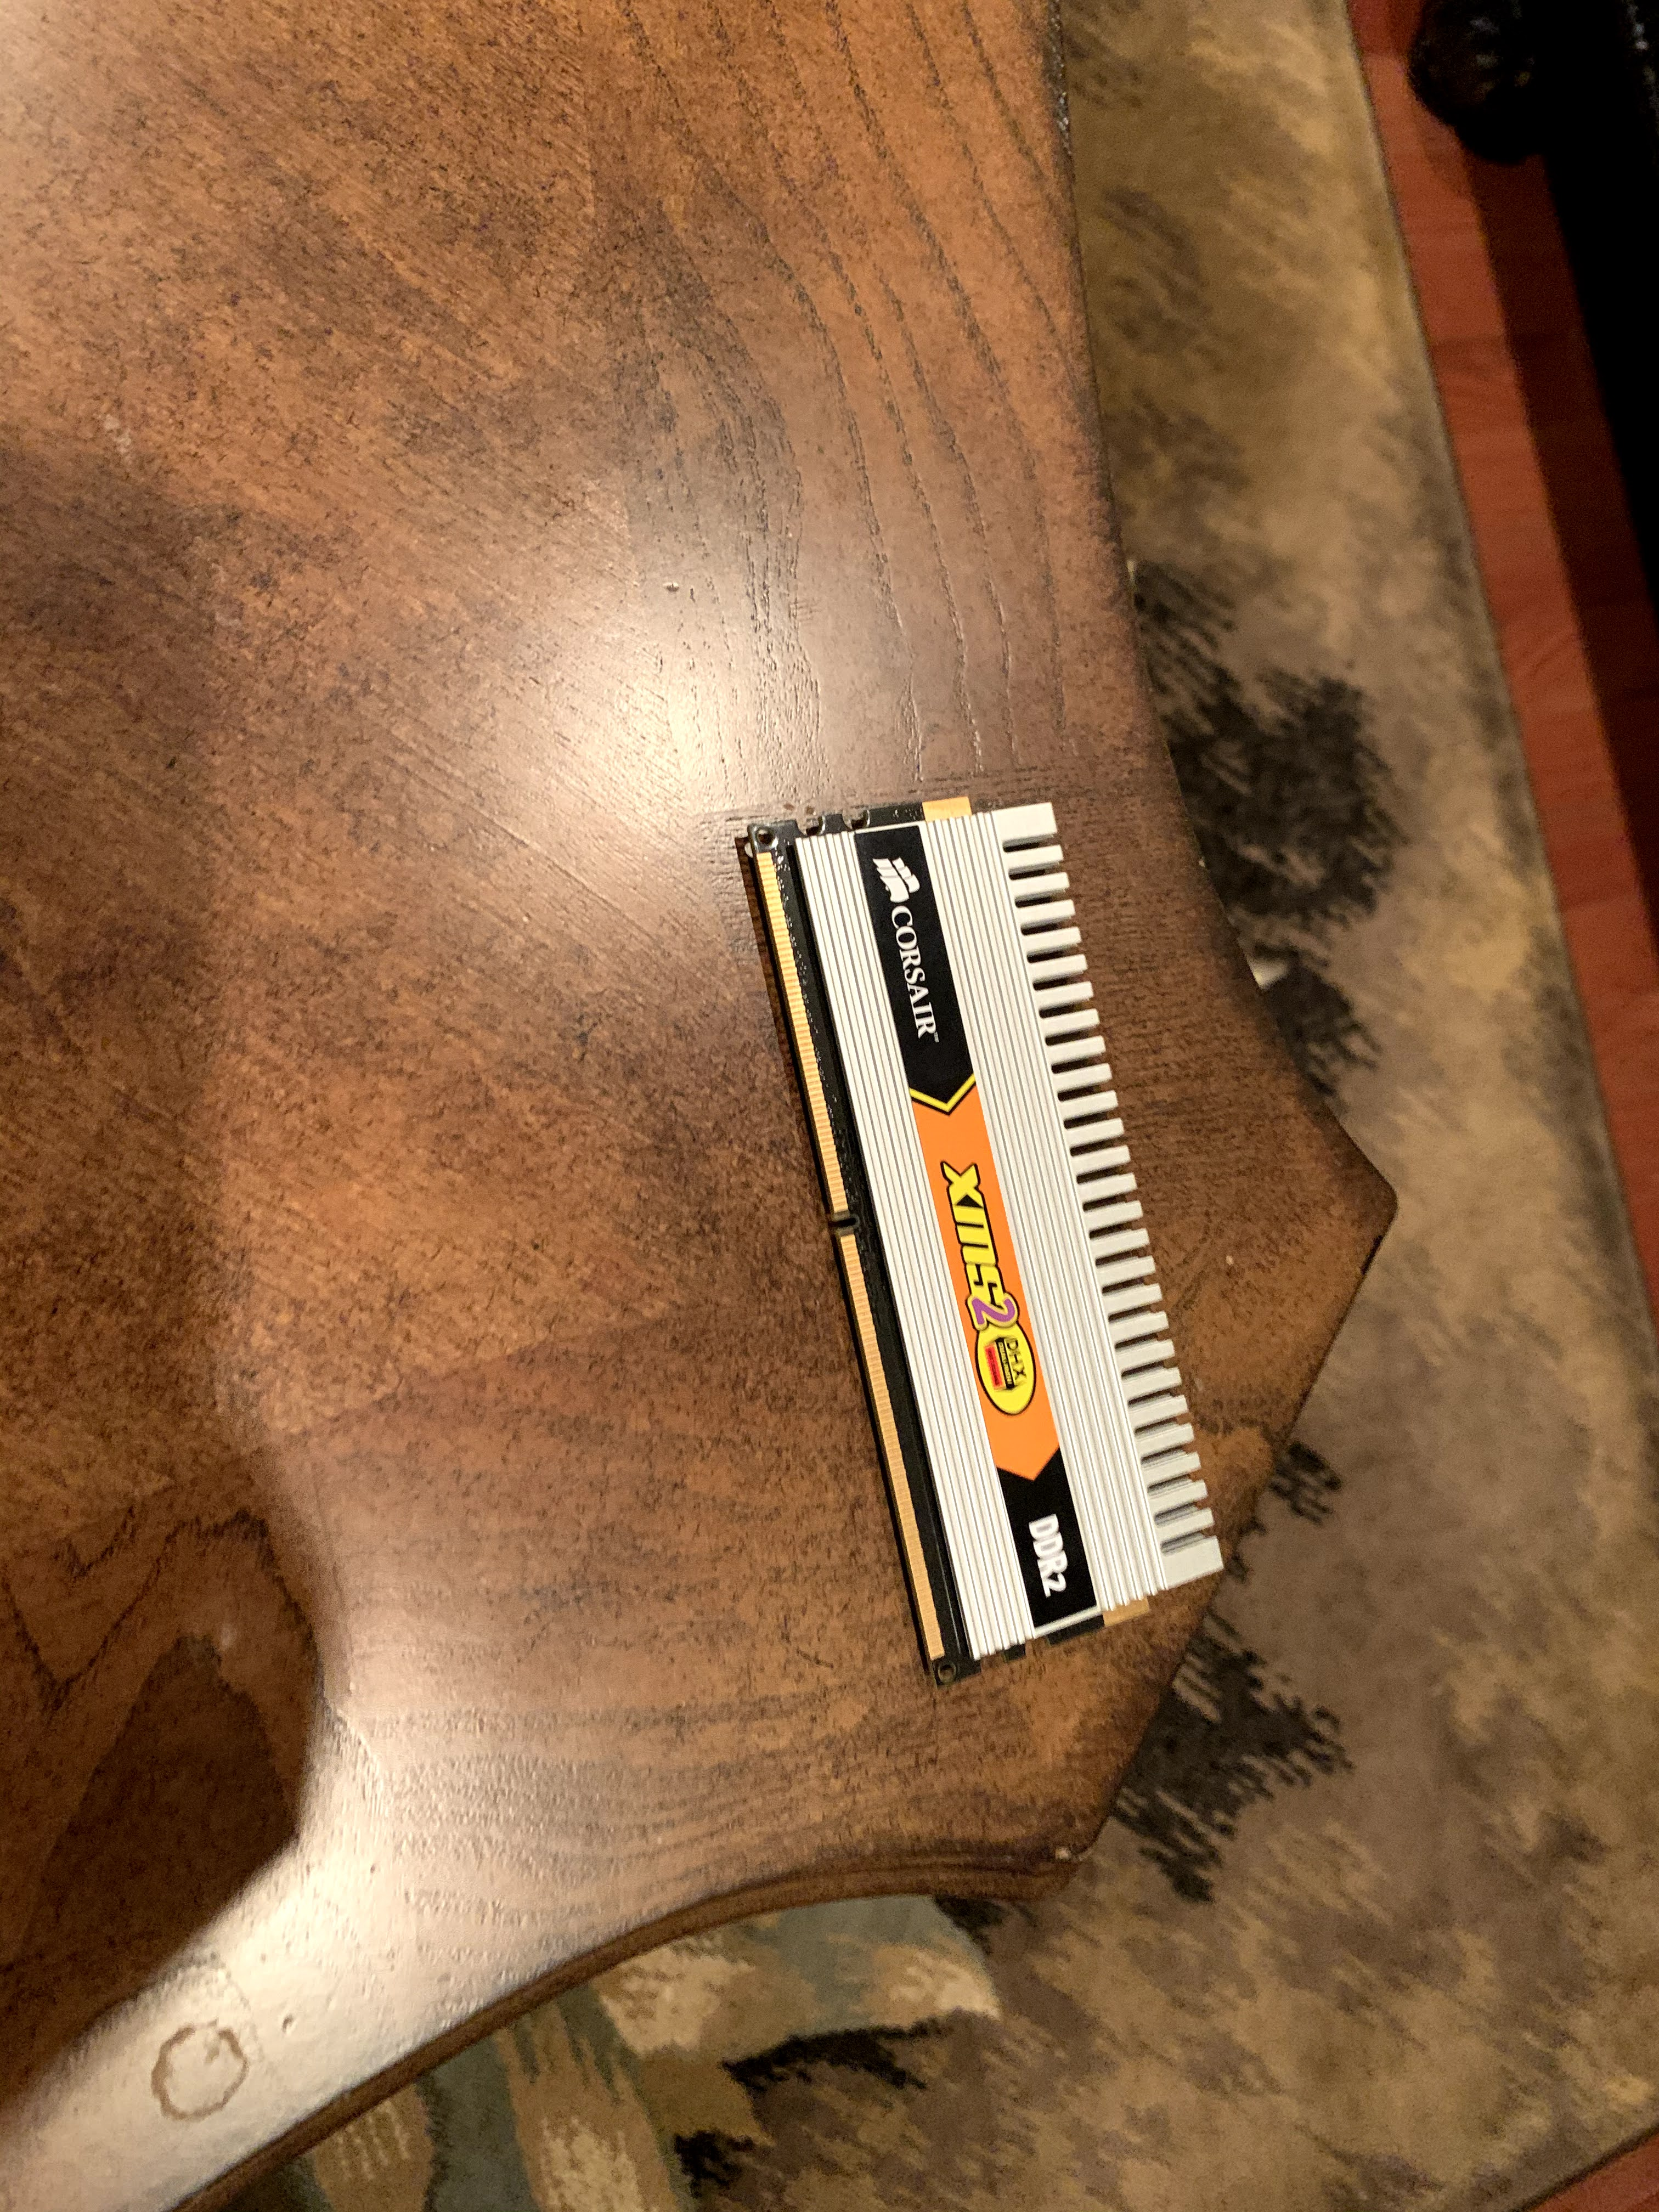Space-debris-medium: (695, 770, 1265, 1669)
